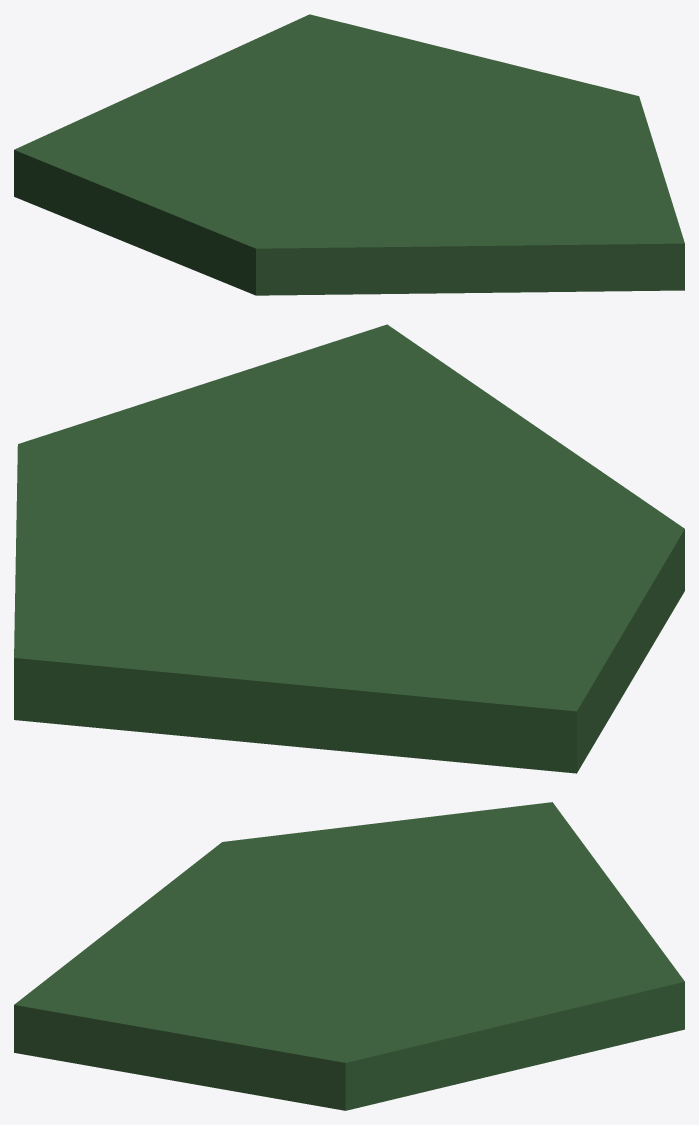
Rendered from x_proval_00_205_1_rmstrd.fbx.
The picture shows the model from 3 angles, top to bottom: view 1: azimuth 30°, elevation 25°; view 2: azimuth 150°, elevation 25°; view 3: azimuth 270°, elevation 25°; orthographic projection. The views are drawn at different scales.
Parts seen in each view (by area): view 1: x_proval_00_205_1_rmstrd1; view 2: x_proval_00_205_1_rmstrd1; view 3: x_proval_00_205_1_rmstrd1.
Part boxes in pixels (box(x1,y1,x2,y2)): x_proval_00_205_1_rmstrd1: box(14, 14, 684, 295); x_proval_00_205_1_rmstrd1: box(14, 324, 684, 773); x_proval_00_205_1_rmstrd1: box(14, 802, 684, 1110).
Bounding box in the file's own units: 2.33 × 0.2 × 2.54.
